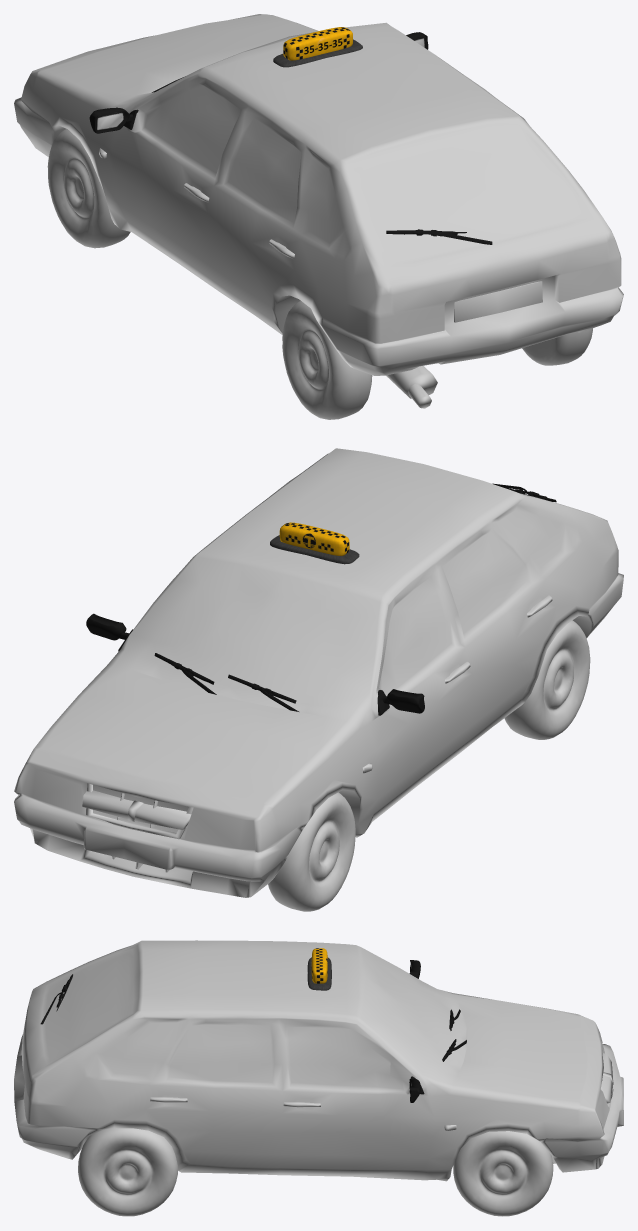
3 views of the same model, one above another, from view 1: azimuth 30°, elevation 25°; view 2: azimuth 150°, elevation 25°; view 3: azimuth 270°, elevation 25° (orthographic). The views are drawn at different scales.
Parts seen in each view (by area): view 1: VAZ2109_BASE, Whells3, Whells1, taxycap, Whells, Mirror, Cleaner; view 2: VAZ2109_BASE, Whells1, Whells3, taxycap, Mirror, Cleaner; view 3: VAZ2109_BASE, Whells, Whells2, taxycap, Cleaner, Mirror.
Part boxes in pixels (box(x1,y1,x2,y2)): VAZ2109_BASE: box(14, 14, 623, 408); Whells3: box(282, 301, 372, 419); Whells1: box(47, 129, 130, 248); taxycap: box(273, 27, 362, 67); Whells: box(522, 328, 592, 365); Mirror: box(89, 32, 428, 133); Cleaner: box(152, 76, 492, 244); VAZ2109_BASE: box(14, 448, 623, 897); Whells1: box(268, 792, 355, 911); Whells3: box(504, 620, 590, 739); taxycap: box(270, 522, 359, 564); Mirror: box(86, 613, 424, 715); Cleaner: box(154, 483, 556, 711); VAZ2109_BASE: box(14, 940, 623, 1181); Whells: box(78, 1128, 177, 1216); Whells2: box(453, 1131, 553, 1216); taxycap: box(307, 948, 331, 990); Cleaner: box(40, 974, 466, 1061); Mirror: box(409, 960, 424, 1102).
Size of the model in its own units: 20.22 by 15.34 by 40.
